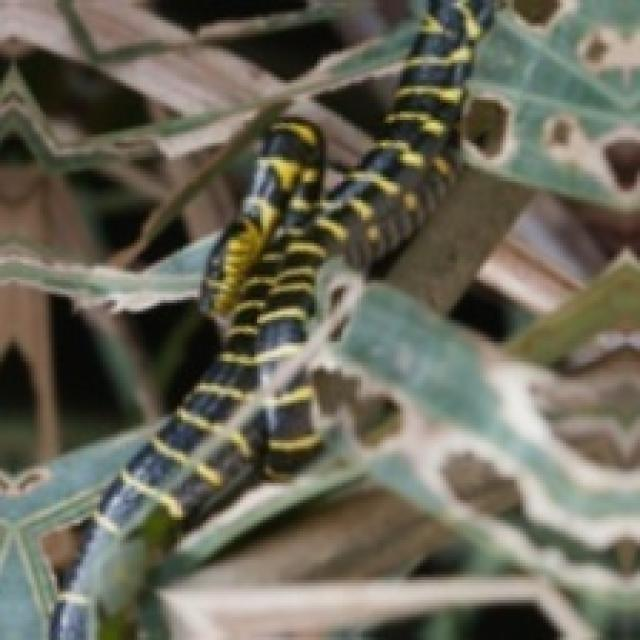mangrove cat snake: (51, 0, 491, 637)
